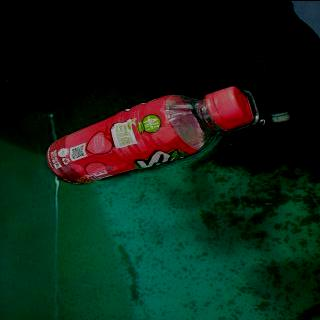bottle: (44, 84, 256, 184)
